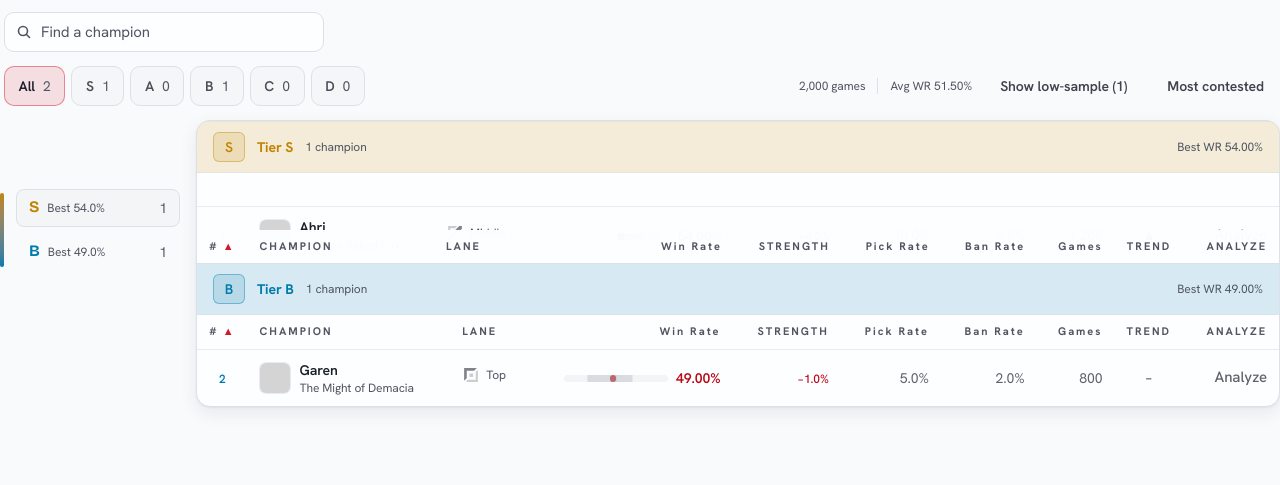
TierListTable › reveals low-sample rows and exposes the active sort direction
Click the button "Show low-sample (1)".
click(1064, 86)  # box 988,64 -> 1139,108
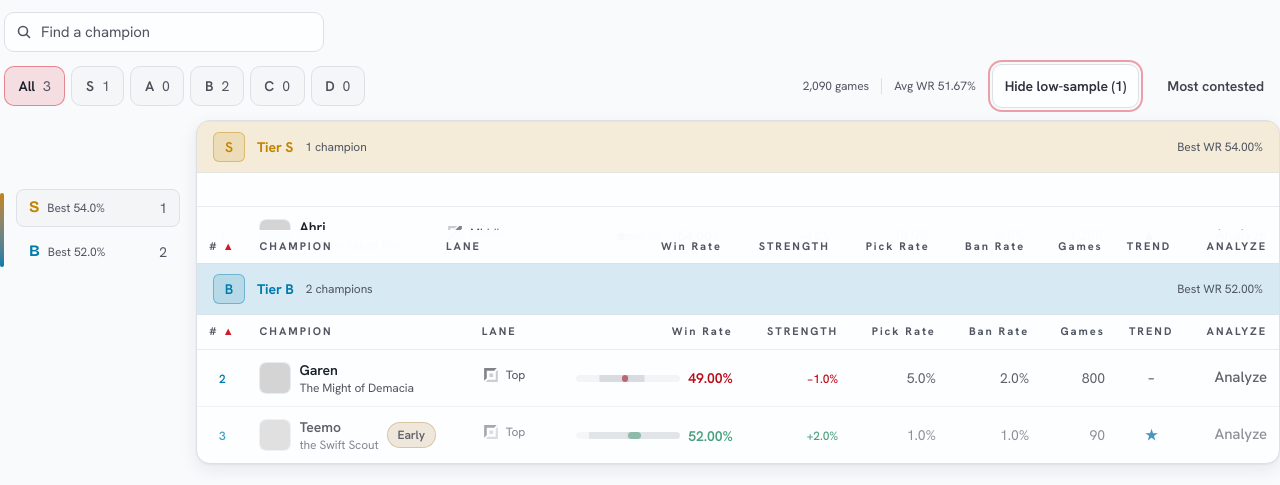
Result: the text "Teemo" is shown at 300,418 -> 341,436
Click the button with aria-label "Sort by Win Rate".
click(692, 246)  # box 661,240 -> 722,253
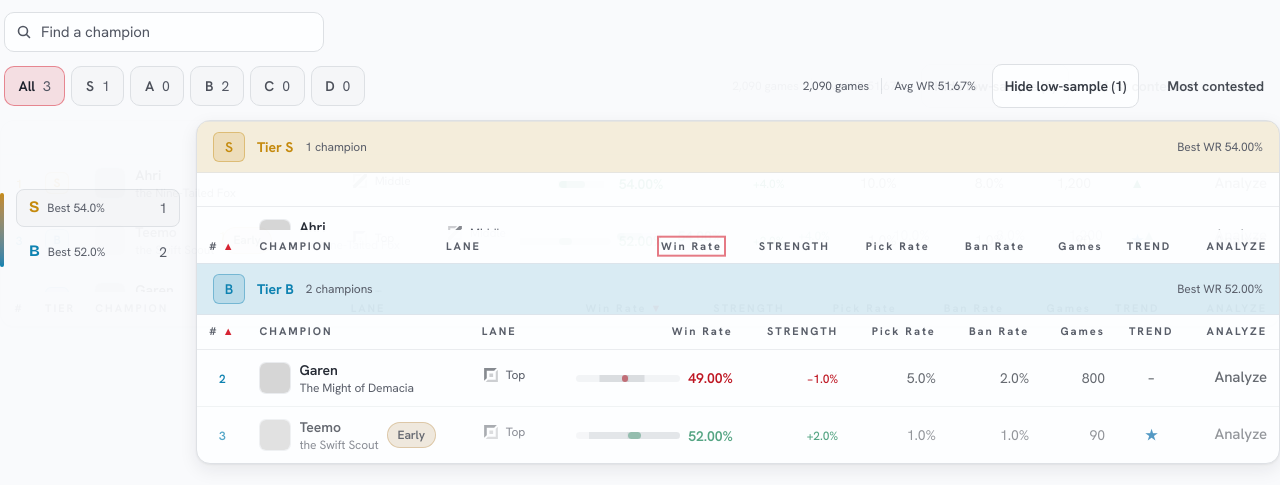
Result: the table named "Sort by Win Rate, currently descending" is shown at 1,121 -> 1279,326
